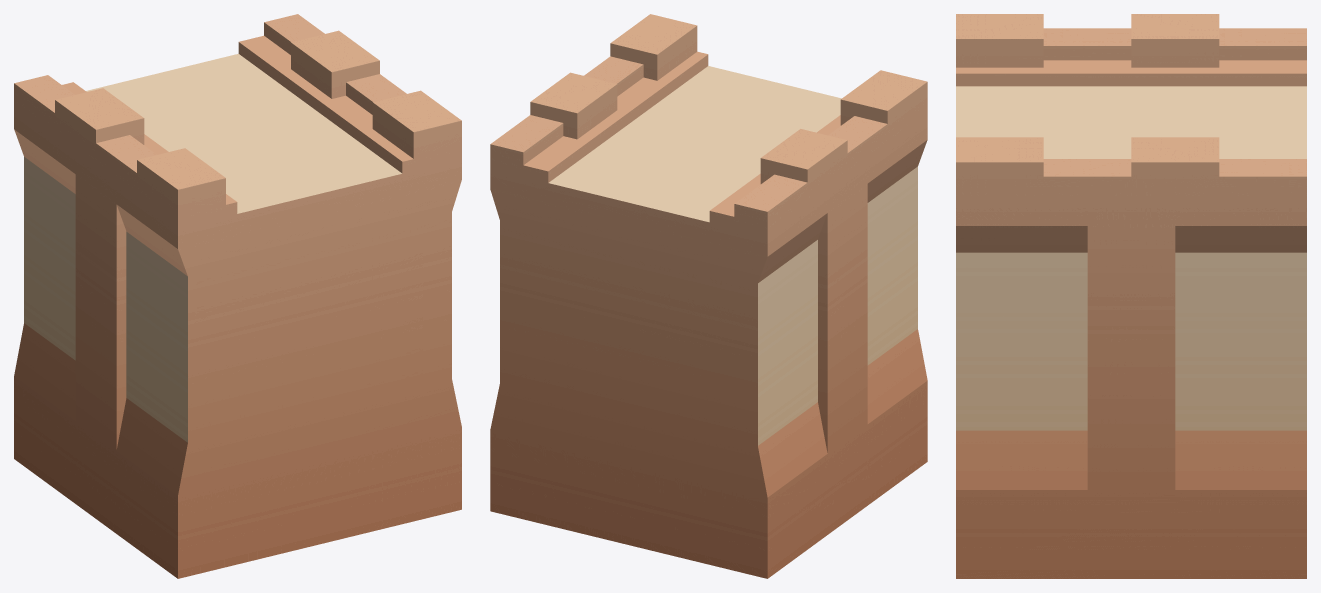
Rendered from wall-pillar.glb.
3 renders of one model, left to right at view 1: azimuth 30°, elevation 25°; view 2: azimuth 150°, elevation 25°; view 3: azimuth 270°, elevation 25°, orthographic. The views are drawn at different scales.
Visible parts, largest first — view 1: wall-pillar; view 2: wall-pillar; view 3: wall-pillar.
Part boxes in pixels (left/top/right/bottom): wall-pillar: left=14, top=14, right=461, bottom=578; wall-pillar: left=490, top=14, right=927, bottom=578; wall-pillar: left=956, top=14, right=1306, bottom=578.
Size of the model in its own units: 1 by 1.31 by 1.
Materials: 1 (1 with a texture image).
